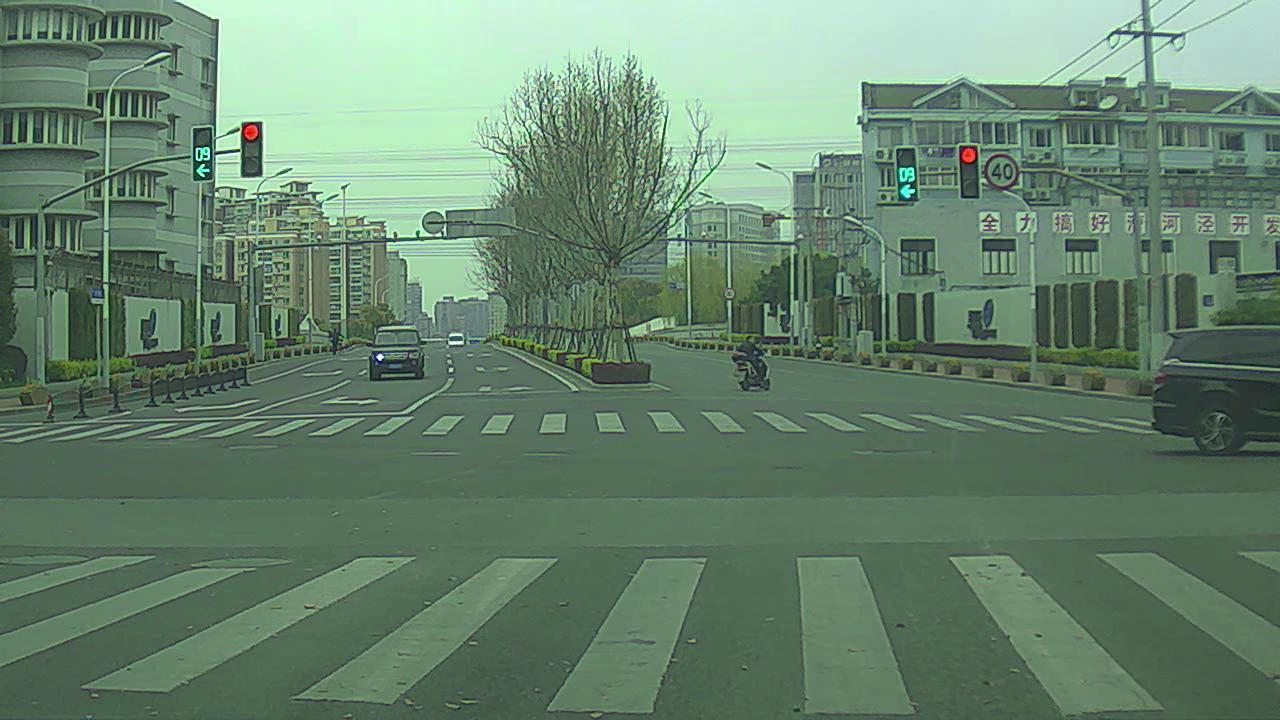traffic_light: (955, 139, 986, 197), (191, 123, 218, 188), (237, 122, 266, 179), (894, 148, 919, 201)
